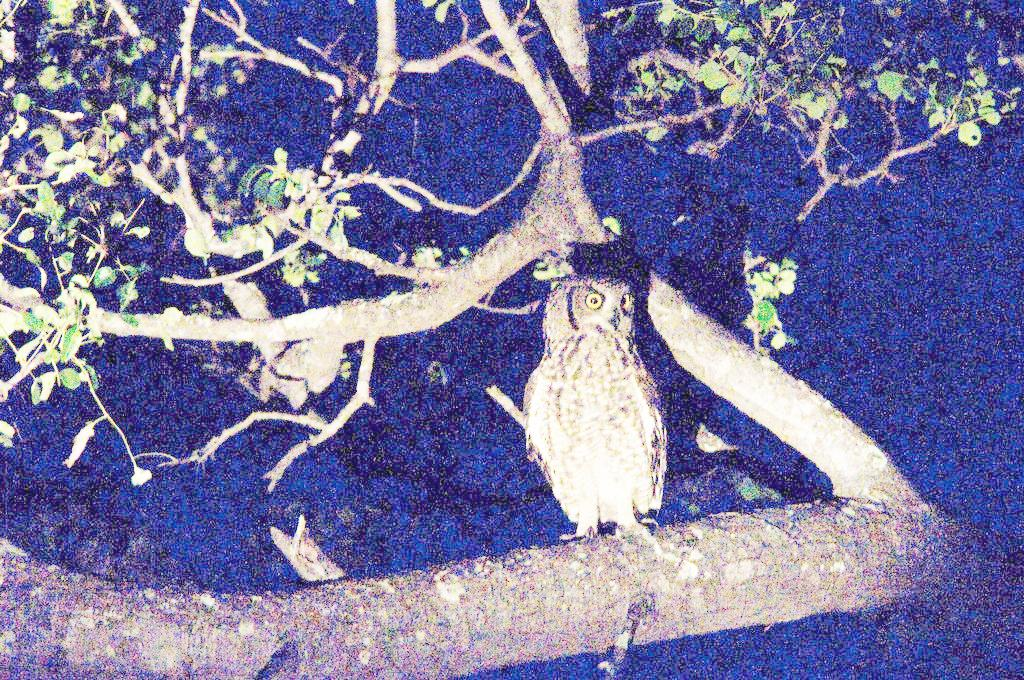Owl: (520, 264, 669, 541)
